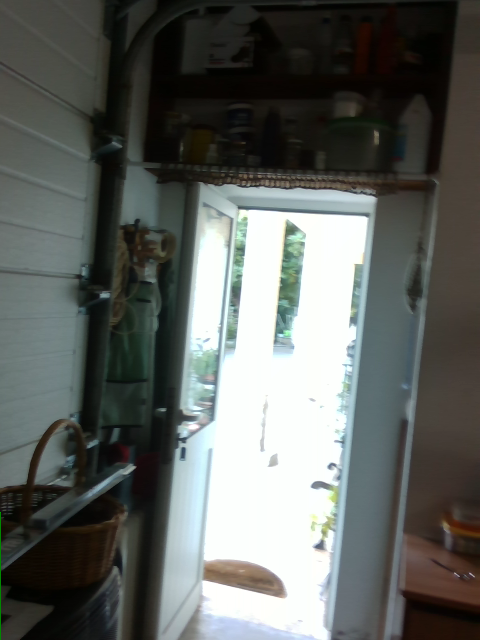open: (151, 182, 375, 639)
